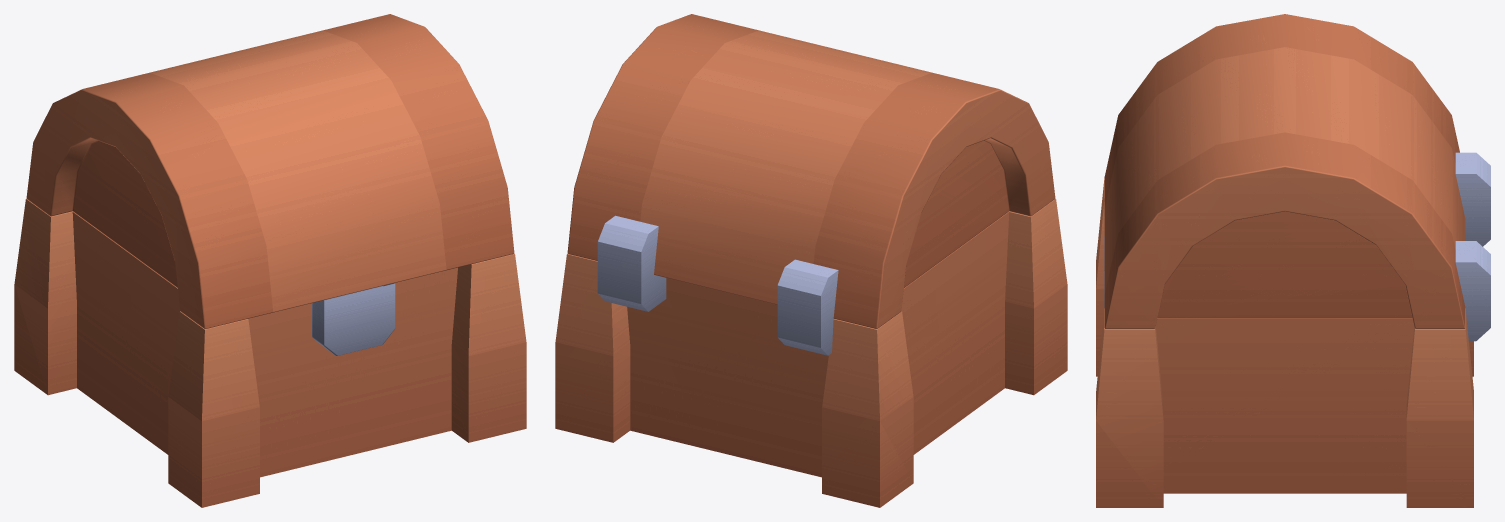
Rendered from chest.glb.
3 views of the same model, side by side, from view 1: azimuth 30°, elevation 25°; view 2: azimuth 150°, elevation 25°; view 3: azimuth 270°, elevation 25° (orthographic).
Visible parts, largest first — view 1: lid, chest; view 2: lid, chest; view 3: lid, chest.
Boxes of the visible parts, x1,y1,x2,y2 form: lid: (26,14,514,355); chest: (14,198,526,507); lid: (567,14,1055,328); chest: (555,198,1067,507); lid: (1104,14,1465,328); chest: (1096,152,1490,507).
Bounding box in the file's own units: 0.2604 × 0.2572 × 0.272.
2 materials, 2 textured.
